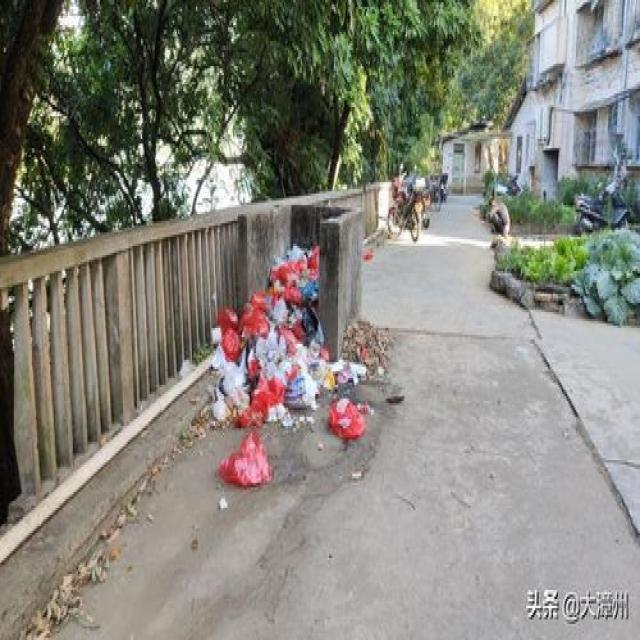garbage: (208, 239, 372, 485)
